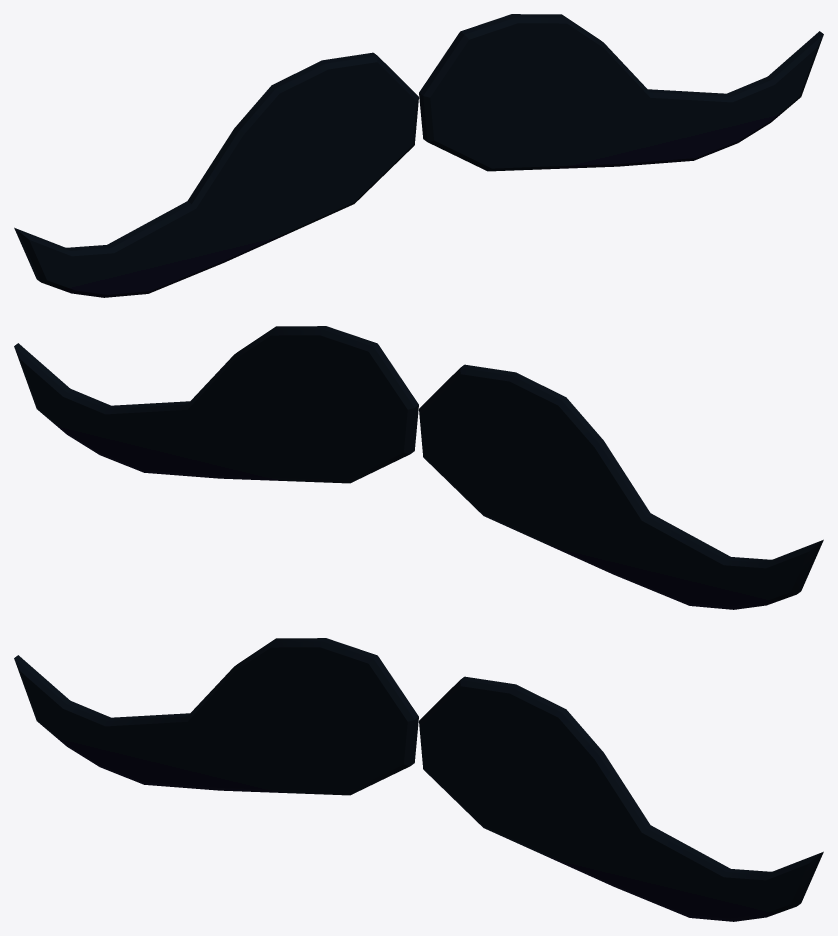
Rendered from SM_Moustache.fbx.
3 views of the same model, one above another, from view 1: azimuth 30°, elevation 25°; view 2: azimuth 150°, elevation 25°; view 3: azimuth 330°, elevation 25° (orthographic).
Parts seen in each view (by area): view 1: Moustache; view 2: Moustache; view 3: Moustache.
Part boxes in pixels (x1,y1,x2,y2): Moustache: [14, 14, 823, 297]; Moustache: [14, 326, 823, 609]; Moustache: [14, 638, 823, 921].
Bounding box in the file's own units: 5.01 × 1.11 × 0.0933.
